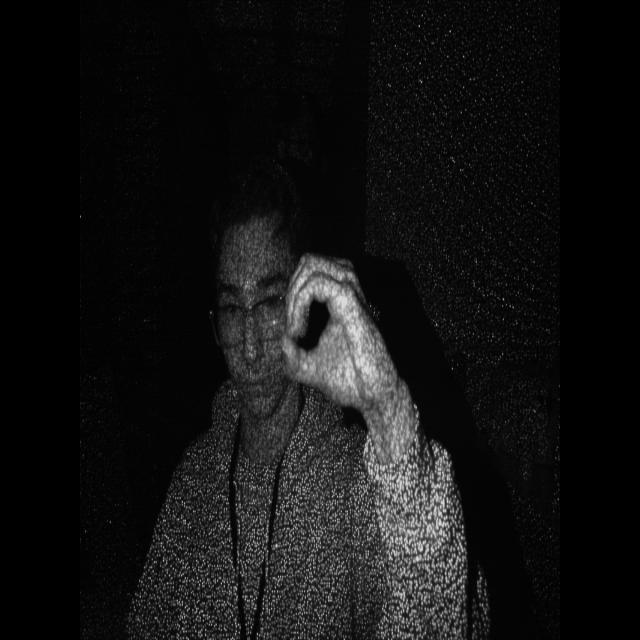O: (274, 240, 383, 409)
